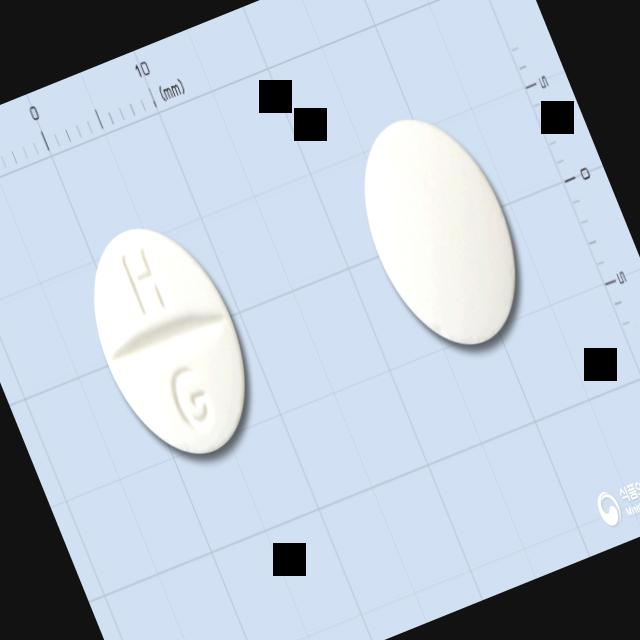Cipoxcin: (57, 196, 286, 488)
